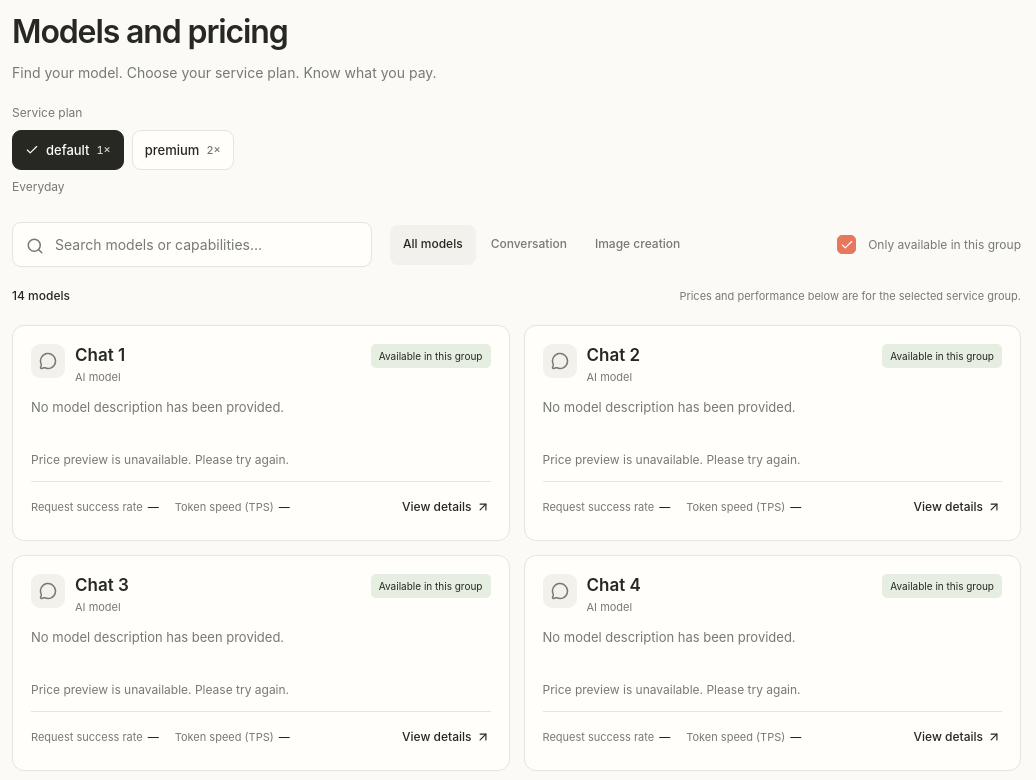
Test: defaults to the selected group and resets an all-models override when switching groups
Expected: the heading "Chat 1" is shown, [75,344,125,366]
Expected: the checkbox named "Only available in this group" is checked, [837,235,856,254]
In the search field labelled "Search models": (192, 244) [12,222,372,267], type "Premium model"
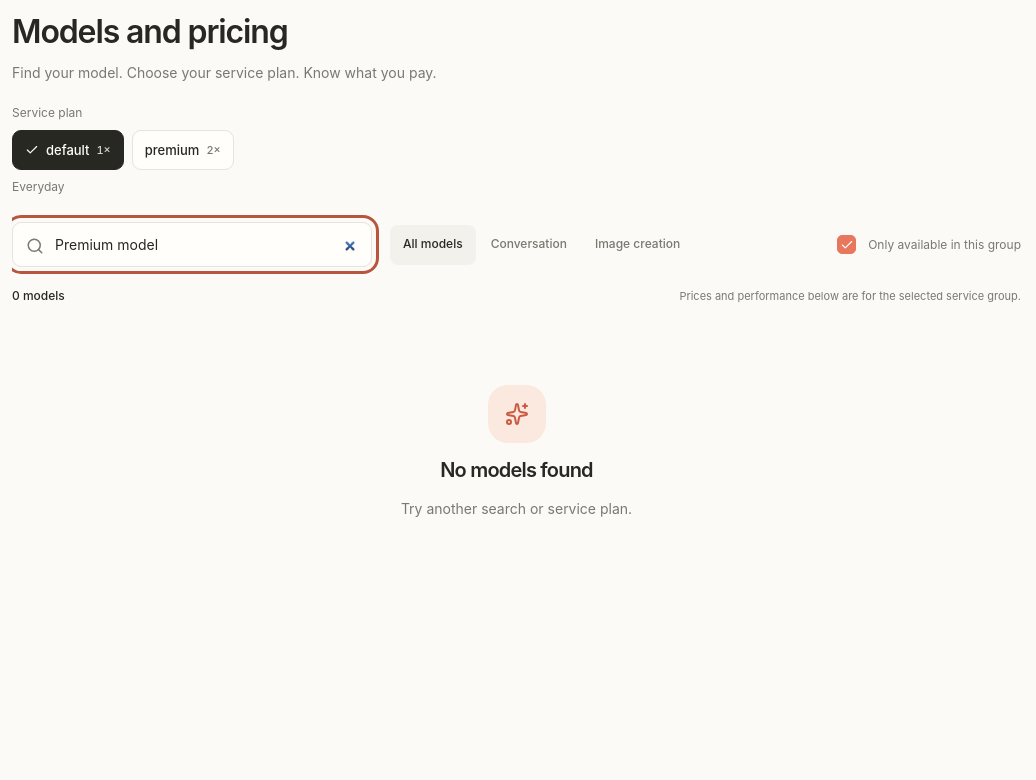
Now the heading "No models found" is shown, box [440,458,593,483]
Click the checkbox named "Only available in this group": click(847, 244) [837,235,856,254]
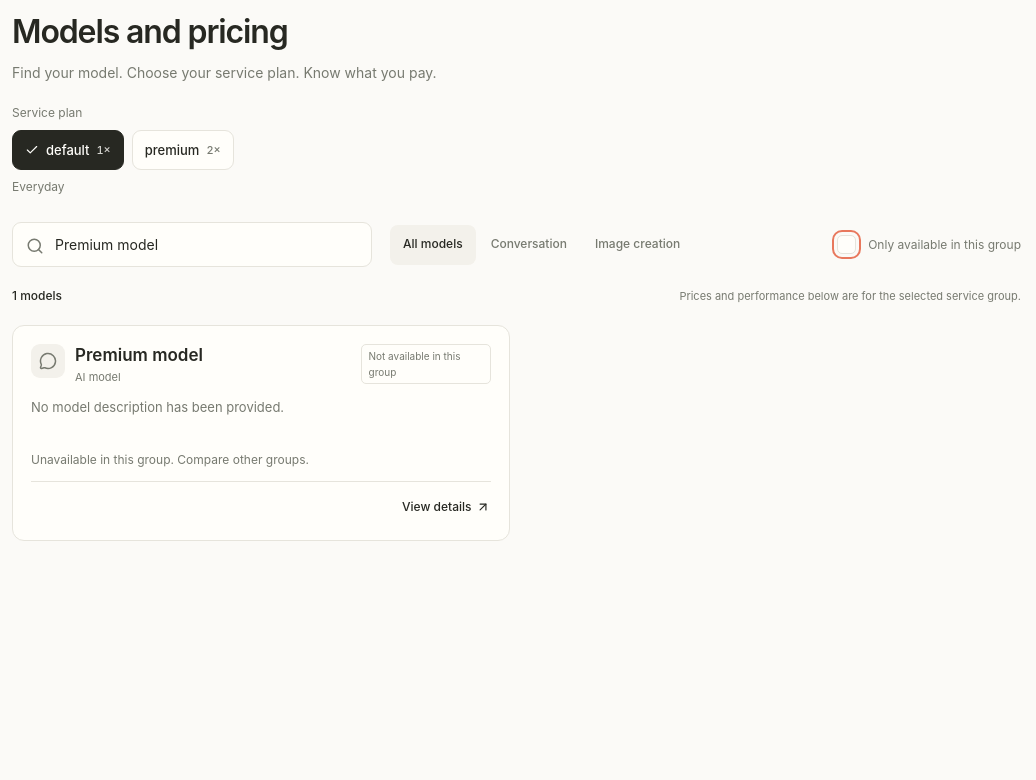
Now the heading "Premium model" is shown, box [75,344,203,366]
Clear the search field named "Search models": (192, 244) [12,222,372,267]
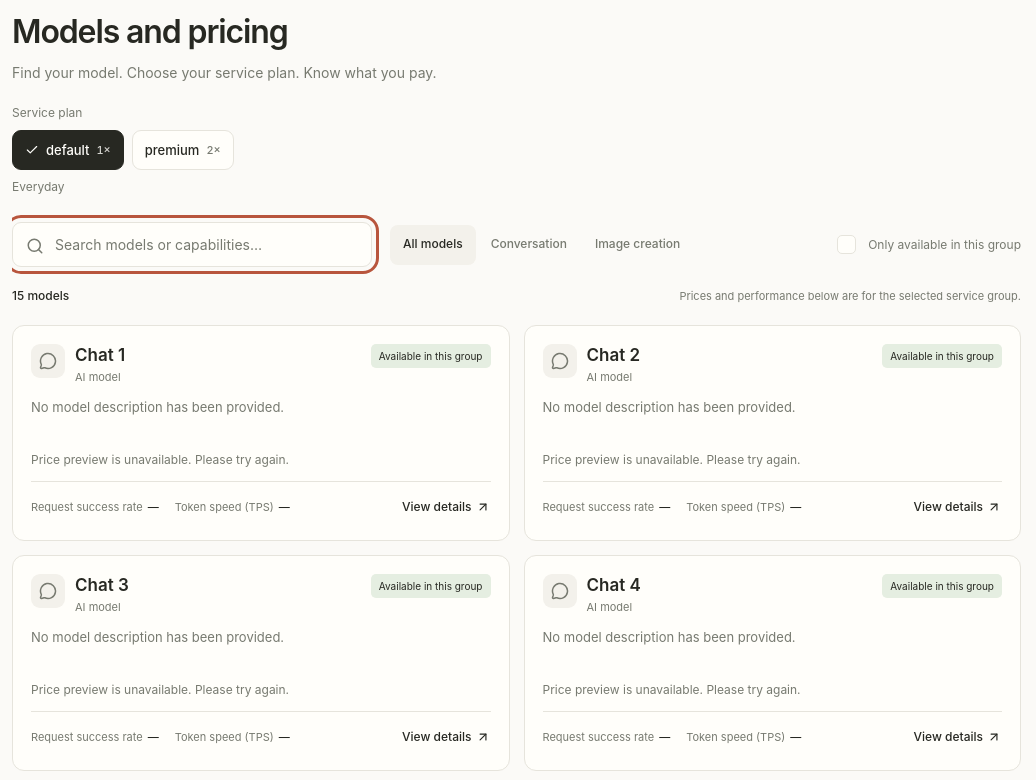
Click the button "premium 2×": click(183, 150) [132,130,234,170]
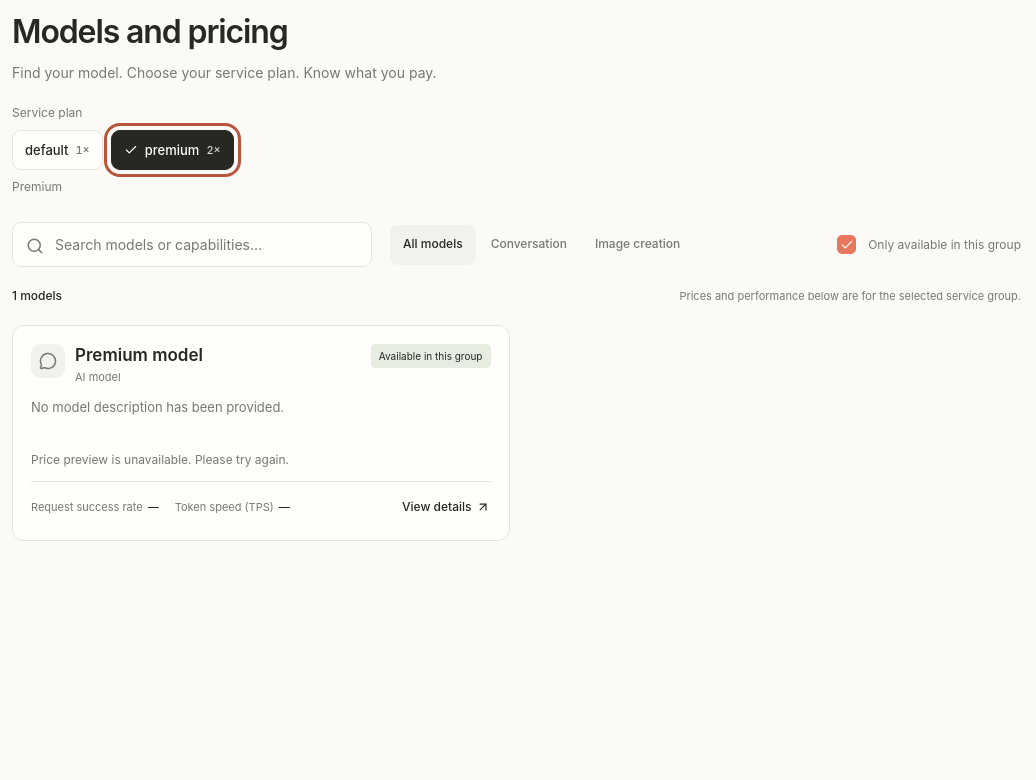
Now the checkbox named "Only available in this group" is checked, box [837,235,856,254]
Now the heading "Premium model" is shown, box [75,344,203,366]
Now the button "Chat 1" is gone
